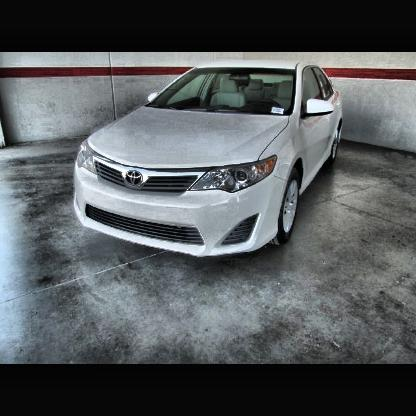Toyota Camry Sedan 2012: (73, 60, 346, 260)
